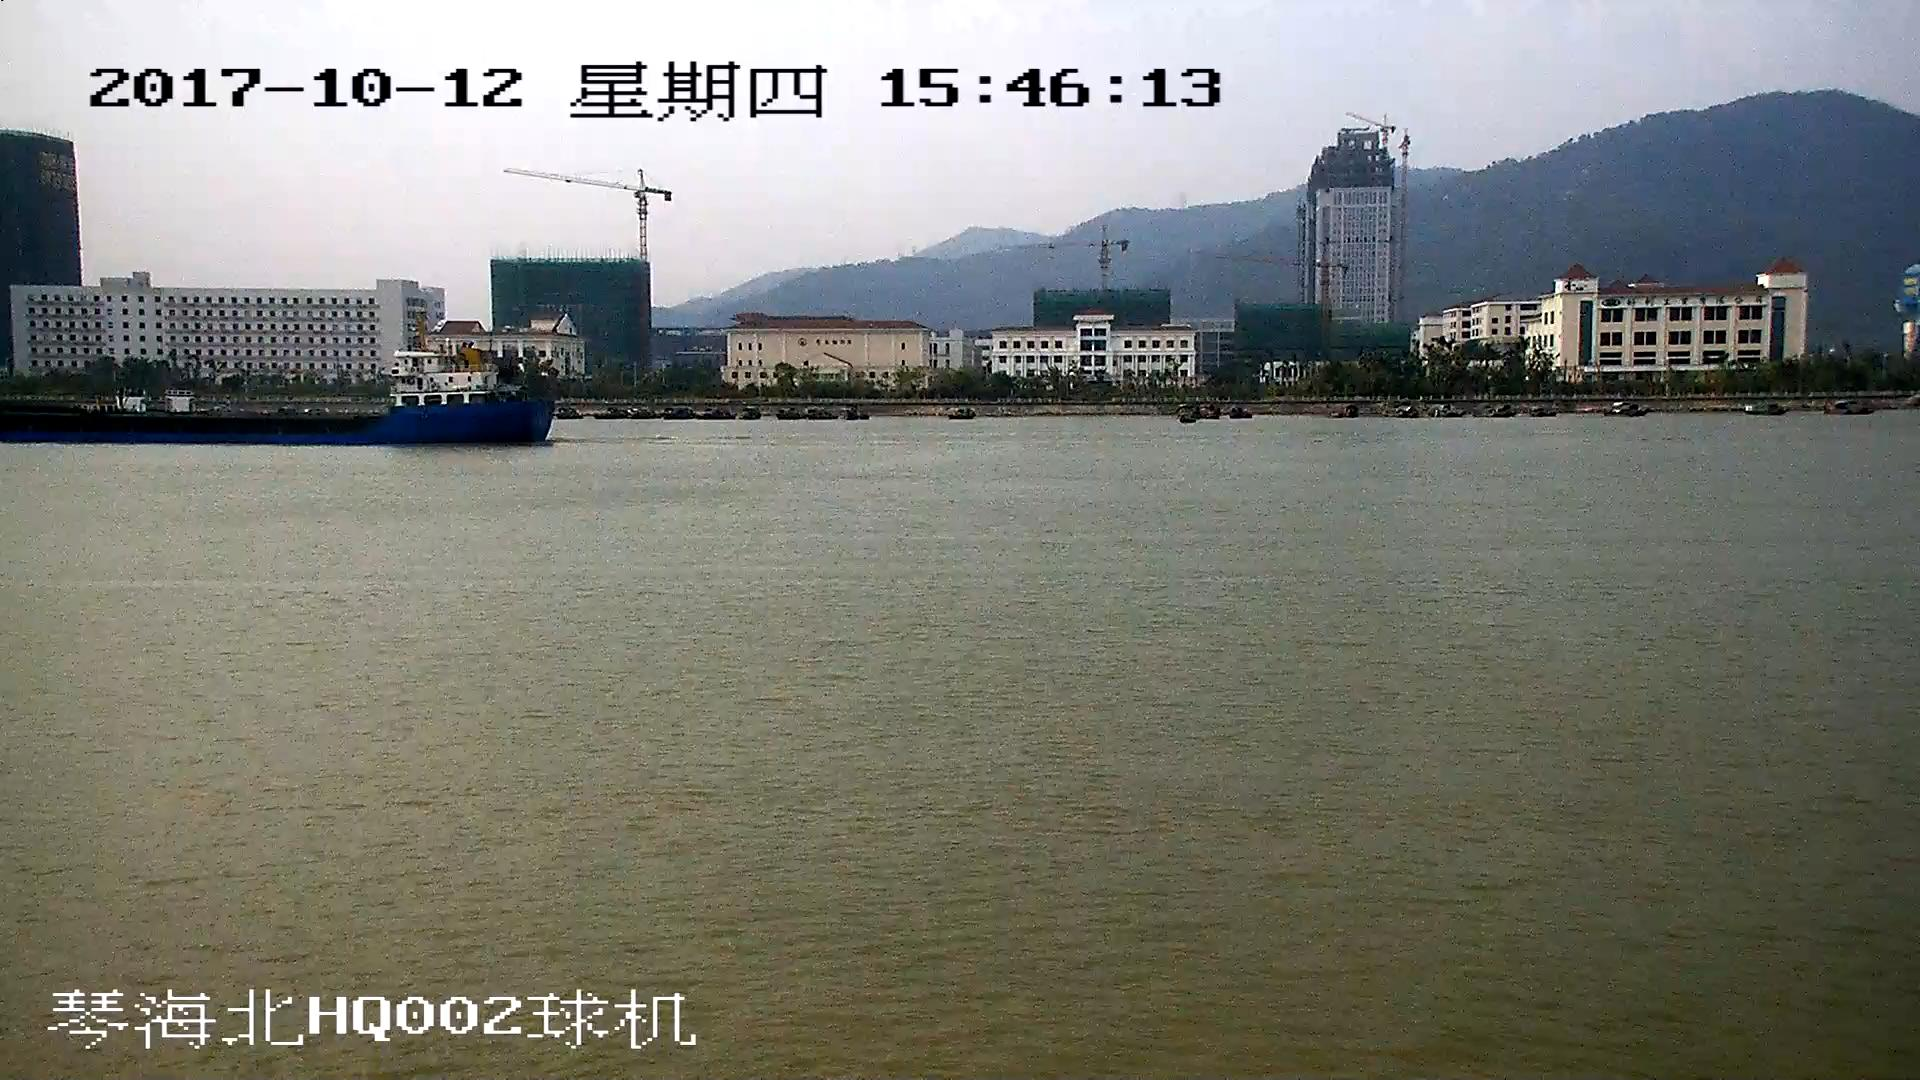general cargo ship: (1, 353, 552, 449)
